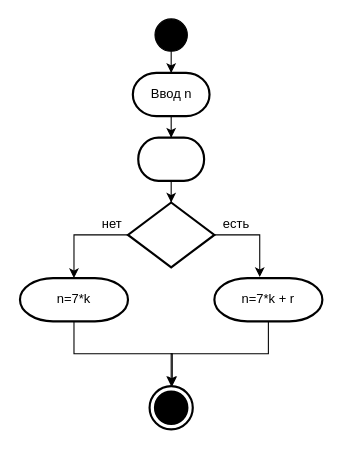
The diagram is 341 pixels wide and 449 high, and some of its shapes have lost their labels. The centre of each missing label's shape, as x and y in pixels:
n / 7: the point at 171,158
Остаток: the point at 170,234
